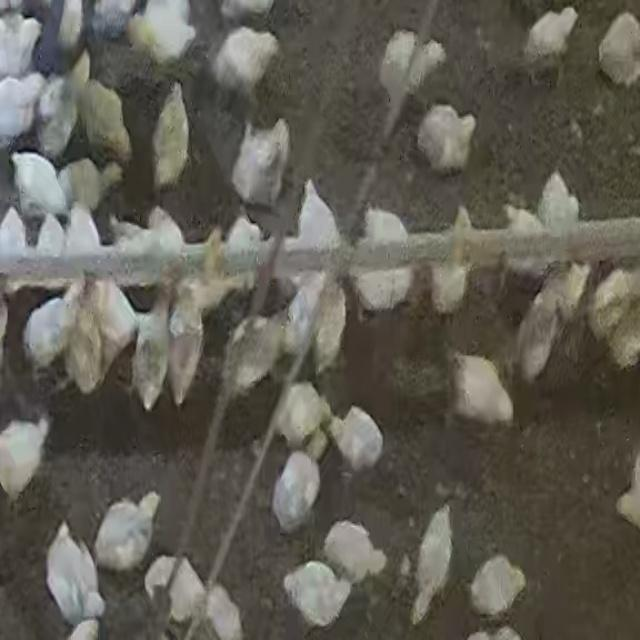chicken: (514, 266, 580, 382), (45, 521, 105, 628), (230, 118, 292, 208), (92, 491, 160, 573), (447, 348, 514, 431), (410, 505, 455, 627), (587, 266, 640, 368), (222, 313, 284, 396), (130, 294, 172, 412), (87, 276, 132, 384), (381, 29, 444, 106), (26, 281, 80, 370), (147, 81, 191, 190), (282, 560, 351, 629), (213, 25, 279, 96), (284, 179, 342, 259), (166, 286, 204, 408), (129, 1, 197, 66), (45, 56, 92, 150), (8, 150, 70, 220), (282, 272, 328, 366), (322, 518, 387, 584), (417, 102, 476, 174), (0, 416, 48, 501), (468, 553, 528, 619), (311, 277, 350, 378), (86, 84, 136, 158), (157, 556, 208, 628), (273, 455, 319, 533), (596, 9, 640, 87), (0, 71, 46, 144), (221, 211, 263, 289), (536, 170, 581, 242), (332, 404, 381, 470), (523, 6, 580, 62), (353, 264, 414, 314), (60, 157, 108, 215), (274, 388, 326, 441), (66, 312, 98, 395), (0, 15, 41, 79), (430, 257, 470, 316), (204, 585, 245, 639), (364, 204, 411, 250), (0, 205, 28, 265), (65, 204, 94, 254), (142, 554, 173, 600), (61, 0, 87, 50), (34, 218, 65, 256)
